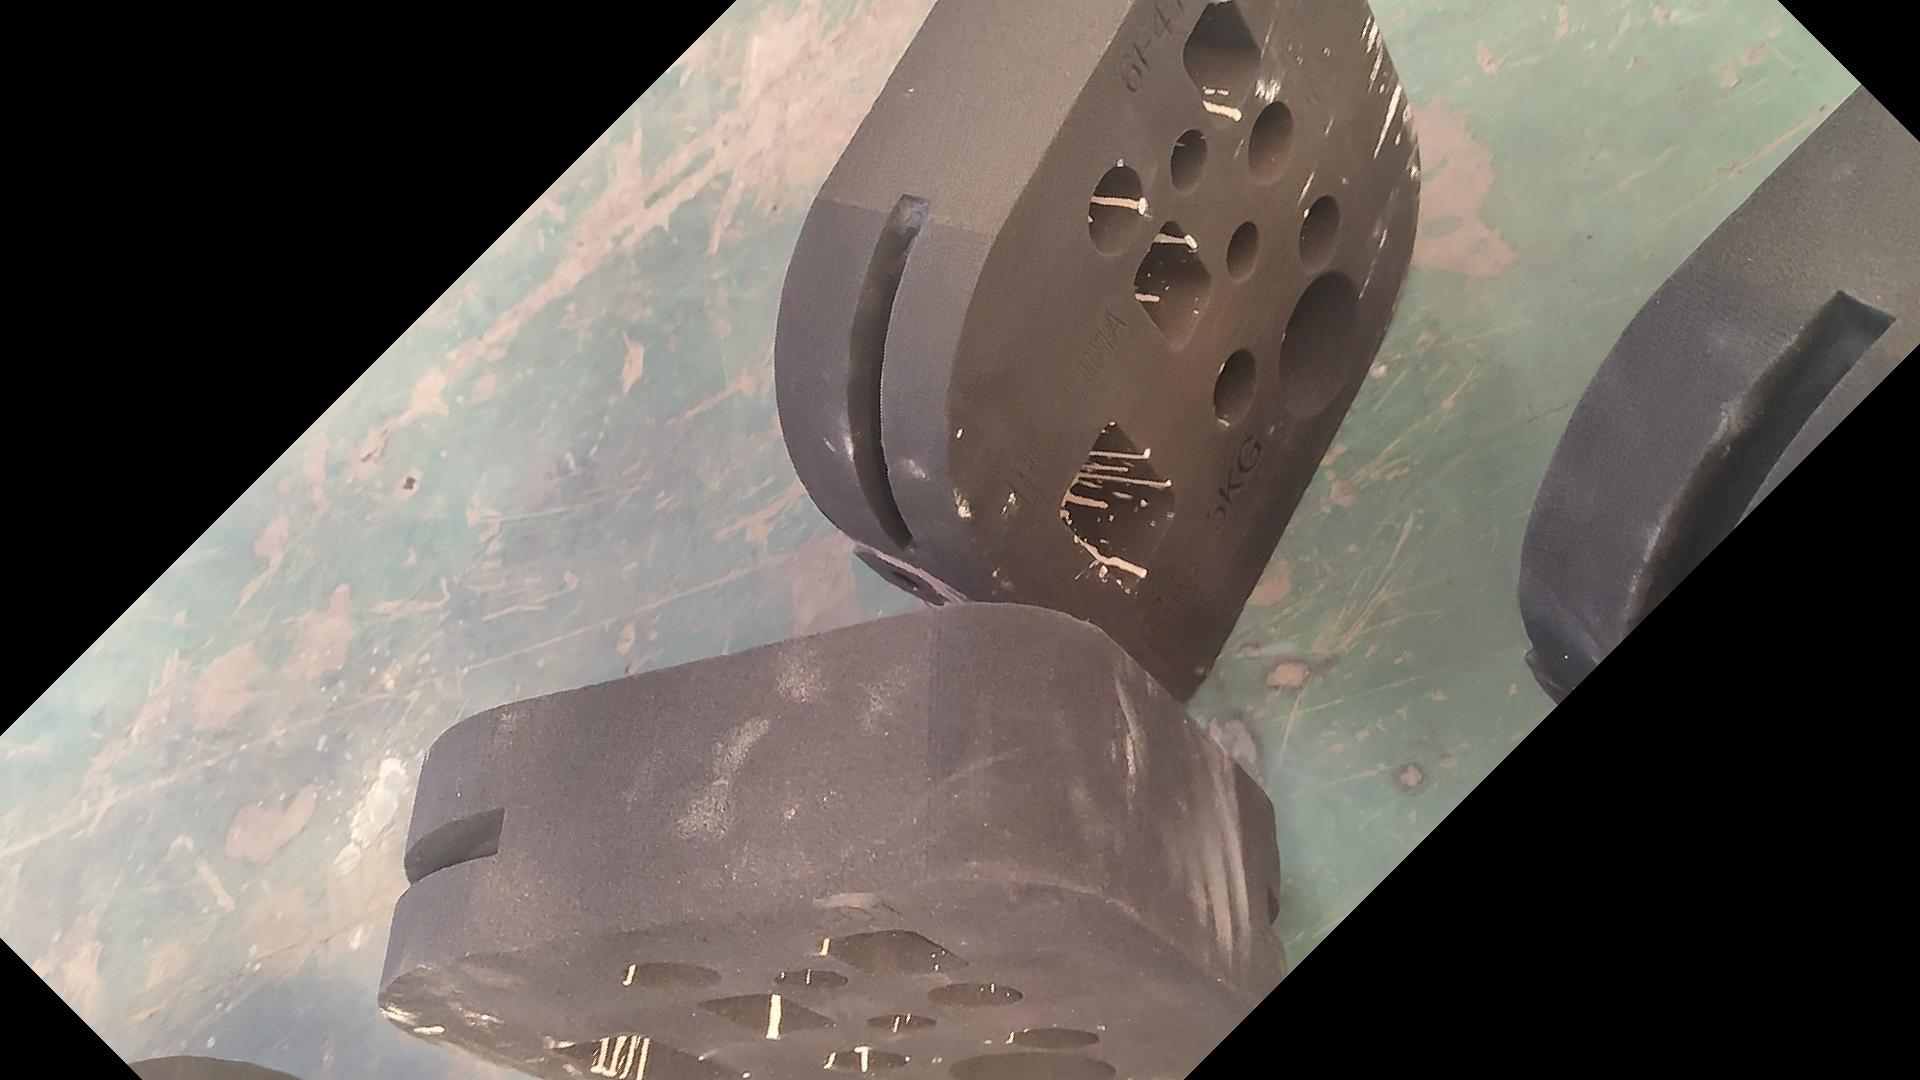pouring hole: (1279, 273, 1356, 418), (945, 1054, 1118, 1080)
